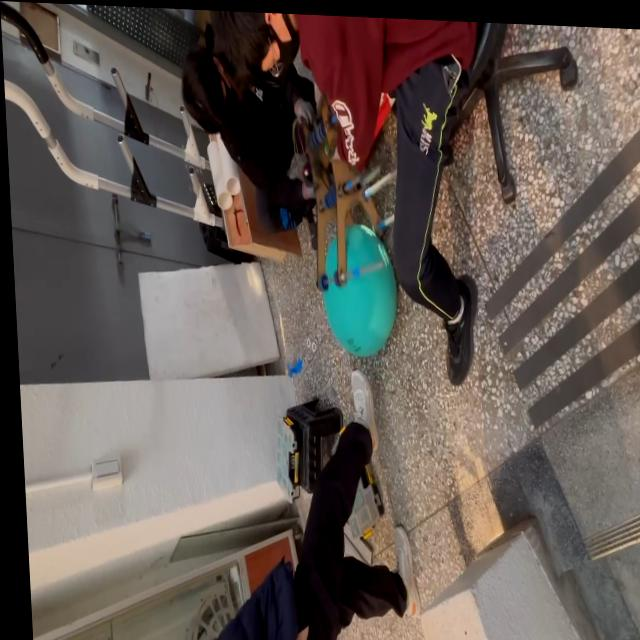ALGAE: (317, 220, 401, 362)
